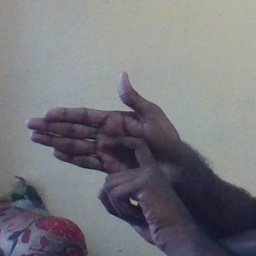R: (26, 71, 173, 201)
